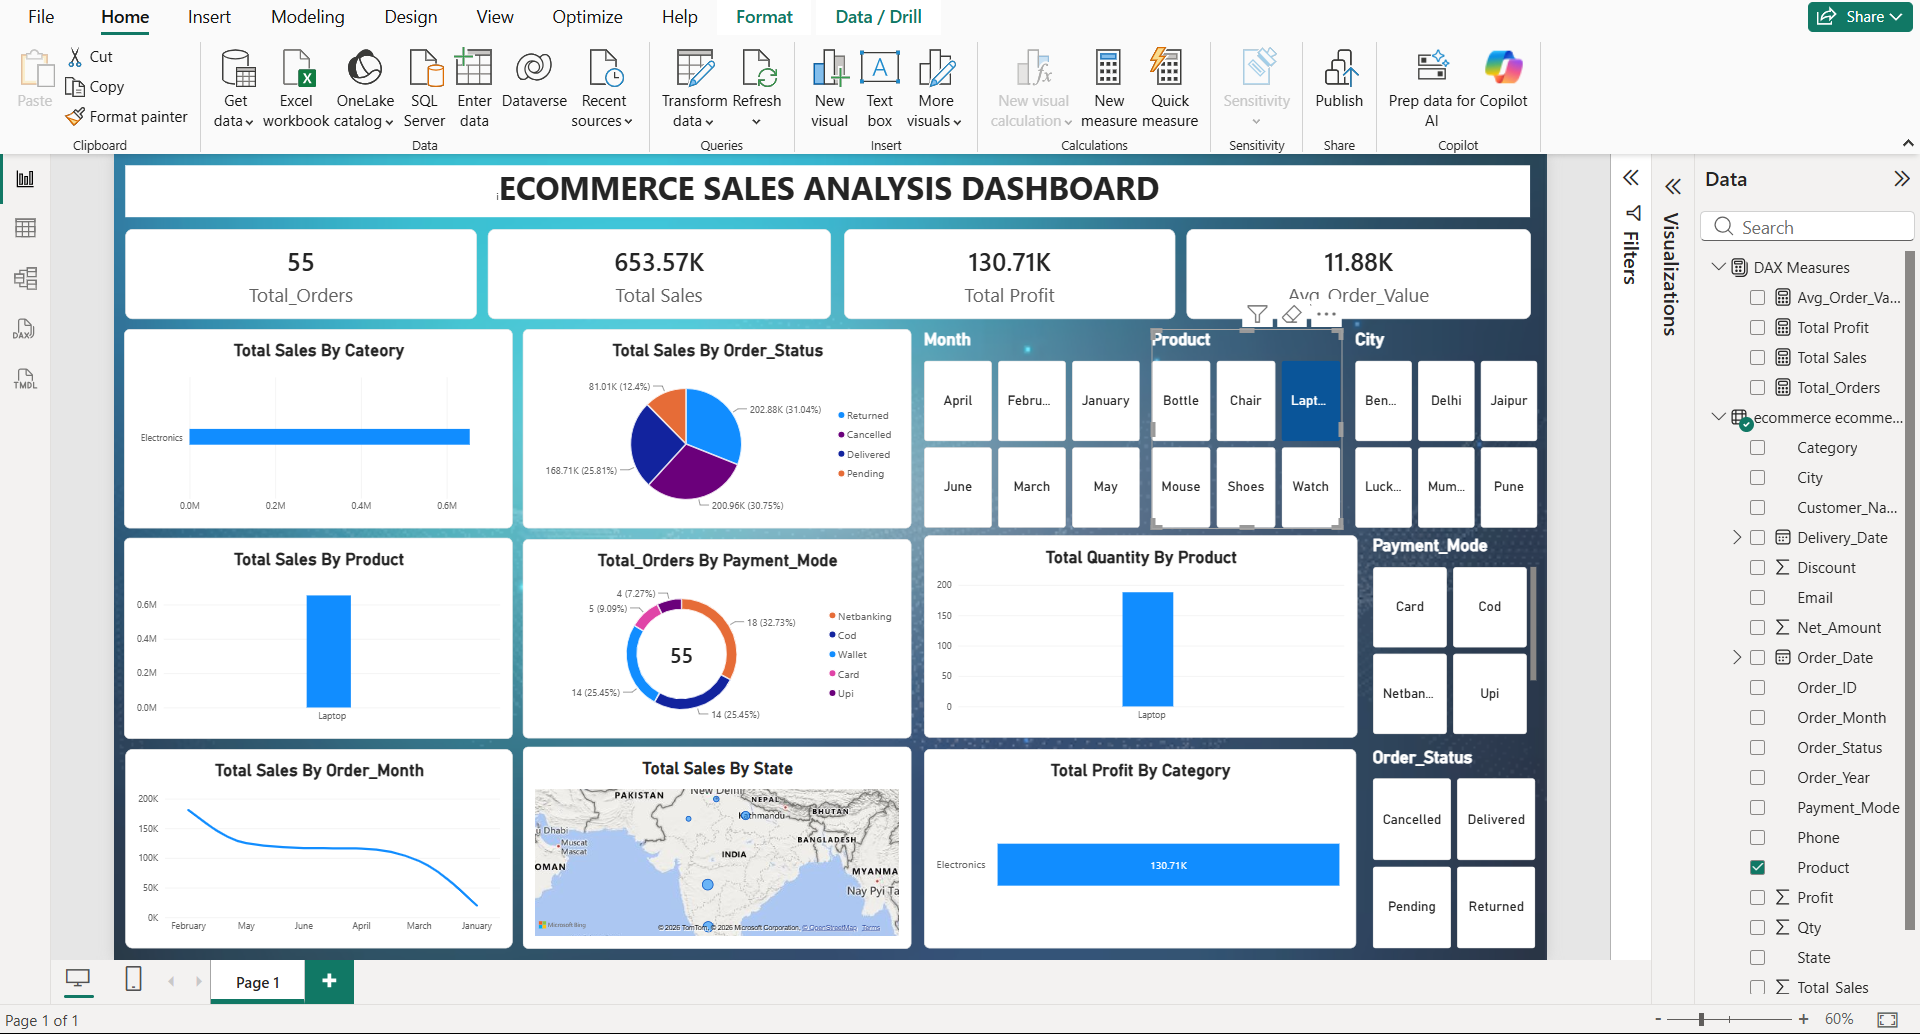

The page's visual inventory and layout, read from the dashboard file:
{"tool":"powerbi","page":{"name":"Page 1","canvas":[1920,1080],"ordinal":0},"visuals":[{"type":"card","fields":{"Values":["DAX Measures.Total_Orders"]},"box":[15.4,100,471.2,121.2],"z":0},{"type":"card","fields":{"Values":["DAX Measures.Total Sales"]},"box":[500,100,459.6,121.2],"z":1},{"type":"card","fields":{"Values":["DAX Measures.Total Profit"]},"box":[978.8,100,444.2,121.2],"z":2},{"type":"card","fields":{"Values":["DAX Measures.Avg_Order_Value"]},"box":[1436.5,100,461.5,121.2],"z":3},{"type":"lineChart","fields":{"Y":["DAX Measures.Total Sales"],"Category":["ecommerce ecommerce_data.Order_Month"]},"box":[15.4,798.1,519.2,267.3],"z":4},{"type":"columnChart","fields":{"Y":["DAX Measures.Total Sales"],"Category":["ecommerce ecommerce_data.Product"]},"box":[13.5,513.5,521.2,269.2],"z":5},{"type":"columnChart","fields":{"Category":["ecommerce ecommerce_data.Product"],"Y":["Sum(ecommerce ecommerce_data.Qty)"]},"box":[1084.6,511.5,580.8,271.2],"z":6},{"type":"map","fields":{"Category":["ecommerce ecommerce_data.State","ecommerce ecommerce_data.City"],"Size":["DAX Measures.Total Sales"]},"box":[548.1,794.2,521.2,271.2],"z":7},{"type":"funnel","fields":{"Y":["DAX Measures.Total Profit"],"Category":["ecommerce ecommerce_data.Category"]},"box":[1084.6,798.1,578.8,267.3],"z":8},{"type":"donutChart","fields":{"Category":["ecommerce ecommerce_data.Payment_Mode"],"Y":["DAX Measures.Total_Orders"]},"box":[548.1,515.4,521.2,267.3],"z":9},{"type":"clusteredBarChart","fields":{"Category":["ecommerce ecommerce_data.Category"],"Y":["DAX Measures.Total Sales"]},"box":[13.5,234.6,521.2,267.3],"z":10},{"type":"pieChart","fields":{"Category":["ecommerce ecommerce_data.Order_Status"],"Y":["DAX Measures.Total Sales"]},"box":[548.1,234.6,521.2,267.3],"z":11},{"type":"advancedSlicerVisual","title":"Month","fields":{"Values":["ecommerce ecommerce_data.Order_Month"]},"box":[1084.6,234.6,290.4,267.3],"z":12},{"type":"advancedSlicerVisual","fields":{"Values":["ecommerce ecommerce_data.Order_Status"]},"box":[1686.5,794.2,219.2,271.2],"z":13},{"type":"advancedSlicerVisual","fields":{"Values":["ecommerce ecommerce_data.Payment_Mode"]},"box":[1686.5,511.5,219,267],"z":14},{"type":"advancedSlicerVisual","fields":{"Values":["ecommerce ecommerce_data.Product"]},"box":[1390.4,234.6,255.8,267.3],"z":15},{"type":"advancedSlicerVisual","fields":{"Values":["ecommerce ecommerce_data.City"]},"box":[1663.5,234.6,244.2,267.3],"z":16},{"type":"textbox","box":[100,100,300,300],"z":17},{"type":"textbox","box":[15.4,15.4,1882.7,69.2],"z":18}]}

Visuals, with their boxes on the page's 1920x1080 design canvas (x1, y1, x2, y2). These are canvas units, not pixel positions in the 1920x1034 screenshot, which may show the page scaled, cropped or inside an application window:
card - DAX Measures.Total_Orders: 15, 100, 487, 221
card - DAX Measures.Total Sales: 500, 100, 960, 221
card - DAX Measures.Total Profit: 979, 100, 1423, 221
card - DAX Measures.Avg_Order_Value: 1436, 100, 1898, 221
lineChart - DAX Measures.Total Sales x ecommerce ecommerce_data.Order_Month: 15, 798, 535, 1065
columnChart - DAX Measures.Total Sales x ecommerce ecommerce_data.Product: 14, 514, 535, 783
columnChart - ecommerce ecommerce_data.Product x Sum(ecommerce ecommerce_data.Qty): 1085, 512, 1665, 783
map - ecommerce ecommerce_data.State x ecommerce ecommerce_data.City: 548, 794, 1069, 1065
funnel - DAX Measures.Total Profit x ecommerce ecommerce_data.Category: 1085, 798, 1663, 1065
donutChart - ecommerce ecommerce_data.Payment_Mode x DAX Measures.Total_Orders: 548, 515, 1069, 783
clusteredBarChart - ecommerce ecommerce_data.Category x DAX Measures.Total Sales: 14, 235, 535, 502
pieChart - ecommerce ecommerce_data.Order_Status x DAX Measures.Total Sales: 548, 235, 1069, 502
"Month" advancedSlicerVisual: 1085, 235, 1375, 502
advancedSlicerVisual - ecommerce ecommerce_data.Order_Status: 1686, 794, 1906, 1065
advancedSlicerVisual - ecommerce ecommerce_data.Payment_Mode: 1686, 512, 1906, 778
advancedSlicerVisual - ecommerce ecommerce_data.Product: 1390, 235, 1646, 502
advancedSlicerVisual - ecommerce ecommerce_data.City: 1664, 235, 1908, 502
textbox: 100, 100, 400, 400
textbox: 15, 15, 1898, 85
